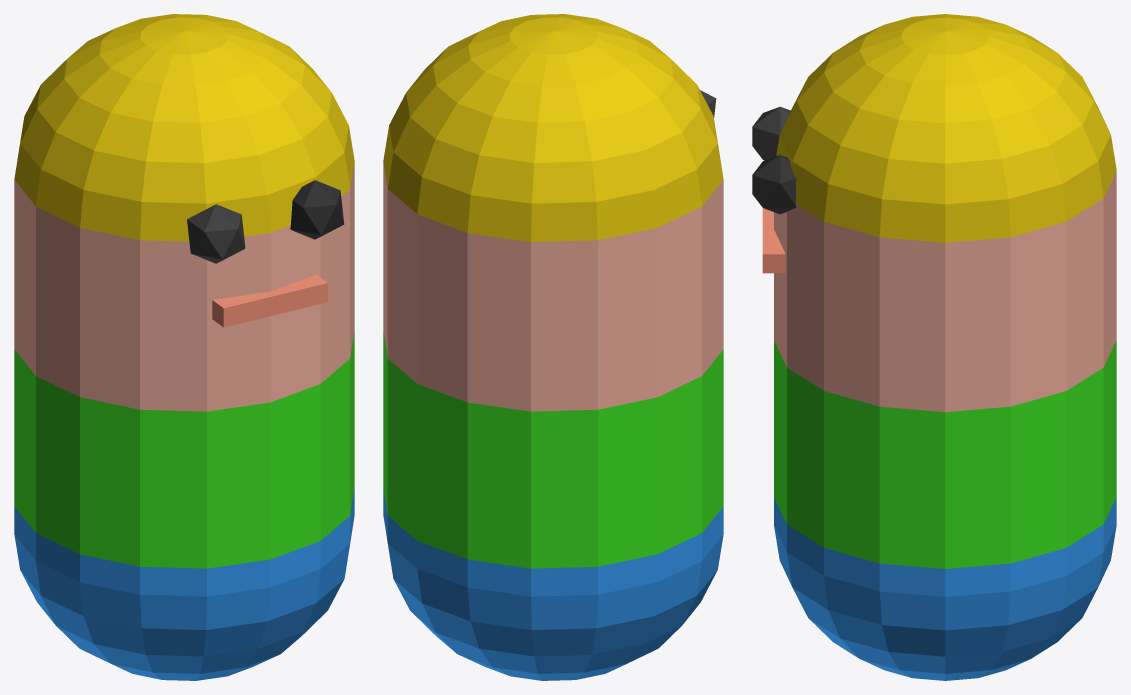
The model's file is pedestrian_2.fbx.
The picture shows the model from 3 angles, left to right: view 1: azimuth 30°, elevation 25°; view 2: azimuth 150°, elevation 25°; view 3: azimuth 270°, elevation 25°; orthographic projection.
Parts seen in each view (by area): view 1: Sphere; view 2: Sphere; view 3: Sphere.
Boxes of the visible parts, x1=… form: Sphere: x1=14, y1=14, x2=354, y2=680; Sphere: x1=383, y1=14, x2=723, y2=680; Sphere: x1=752, y1=14, x2=1116, y2=680.
Bounding box in the file's own units: 83.42 × 170 × 88.68.
Materials: 1 (1 with a texture image).
